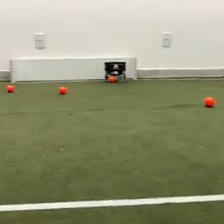ball: (203, 95, 216, 108), (57, 84, 67, 95), (6, 82, 15, 92), (107, 74, 116, 82)
goal: (7, 55, 138, 83)
robot: (102, 59, 127, 82)
